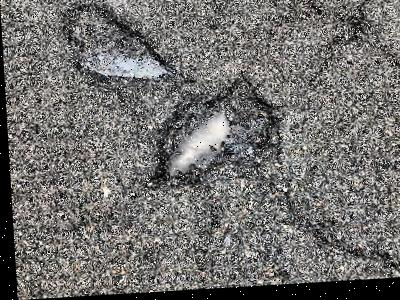pothole: (141, 71, 284, 192), (57, 0, 174, 87)
